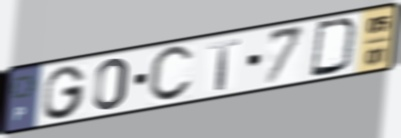0: (92, 56, 131, 112)
7: (266, 22, 307, 88)
C: (145, 43, 196, 105)
D: (307, 17, 360, 79)
G: (41, 64, 88, 121)
T: (207, 36, 243, 92)
